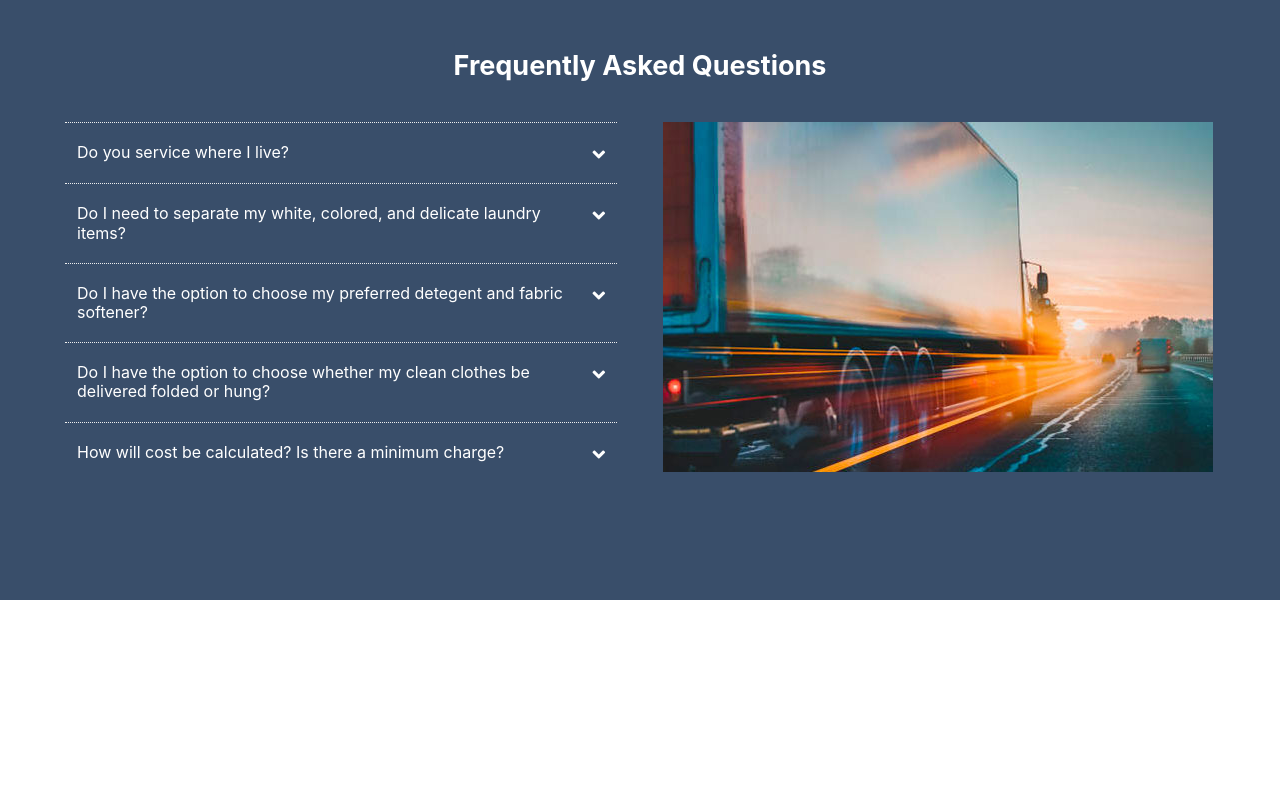
Test: Test suit for FAQs section › to check if answer appears when question0 is clicked and if the slide has the active-slide class
The width and height of the screenshot is (1280, 800).
What coordinates should you click on to do the following:
click the element named "question0"
I would click on:
 (183, 152)
Its box is [77,142,605,165].
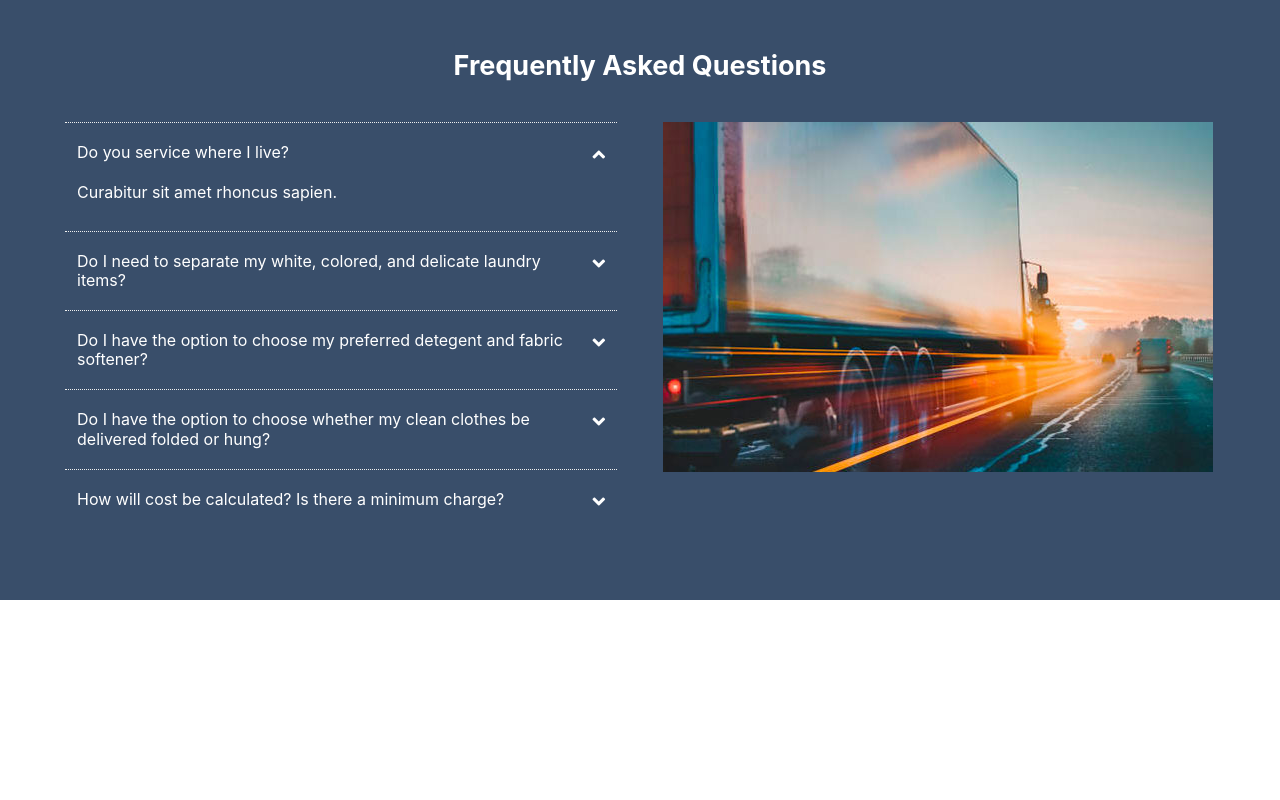
Expected: the element named "answer0" is shown, [77,182,337,202]
